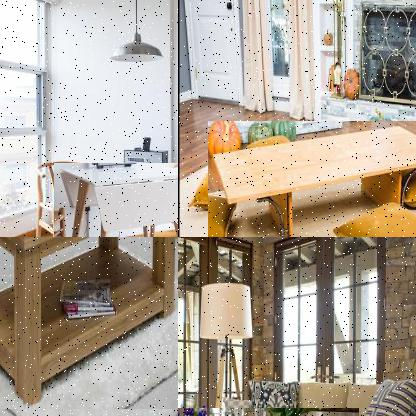table: (0, 237, 177, 411), (206, 121, 415, 236), (53, 163, 177, 236)
